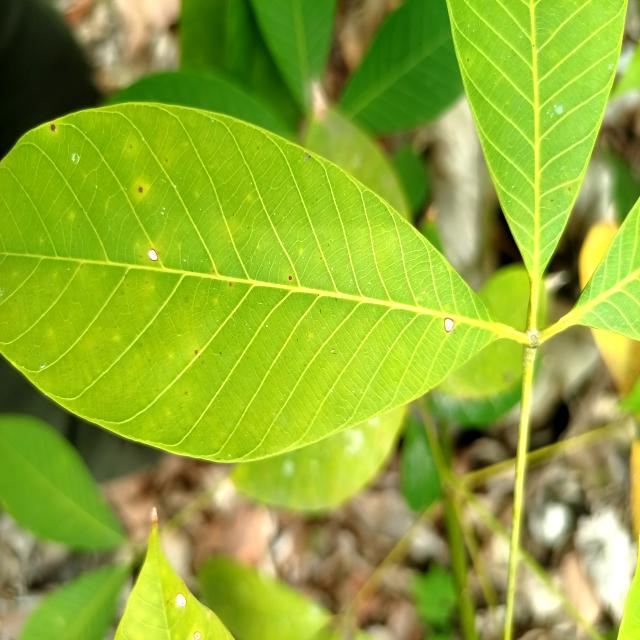Colletotrichum: (444, 318, 454, 332), (149, 250, 159, 262), (51, 124, 56, 131), (288, 276, 292, 280), (139, 188, 142, 192)
